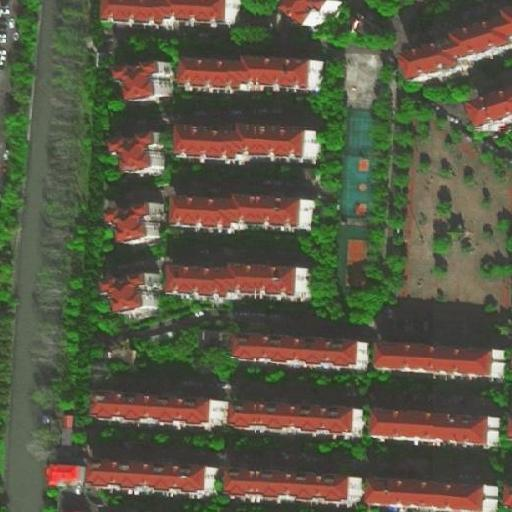building: (403, 14, 512, 82), (238, 332, 370, 368), (378, 339, 506, 376), (173, 193, 311, 227), (170, 262, 307, 296), (184, 56, 321, 90), (230, 467, 355, 503), (235, 401, 363, 436), (181, 125, 317, 157), (376, 405, 496, 441), (362, 477, 487, 511), (97, 392, 219, 424), (94, 460, 215, 492), (102, 1, 230, 25), (105, 269, 168, 315), (113, 128, 168, 174), (112, 61, 172, 101), (109, 202, 164, 244), (344, 48, 383, 102), (470, 86, 511, 131), (48, 462, 91, 489), (347, 11, 379, 43), (183, 323, 225, 346), (490, 481, 512, 510), (109, 347, 139, 365), (60, 492, 90, 510)
